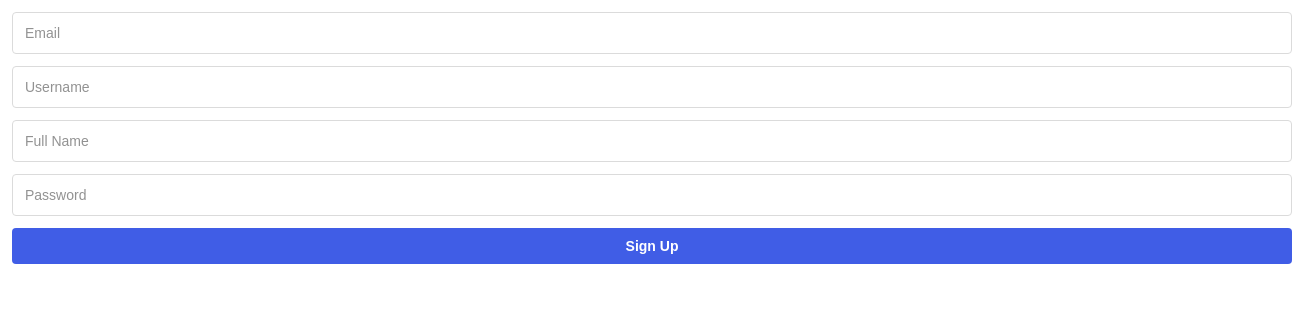
SignupForm › shows error when registration fails
Type "taken@test.com" into the field with placeholder "Email".
click(652, 33); type("taken@test.com")  # box x1=12 y1=12 x2=1292 y2=54
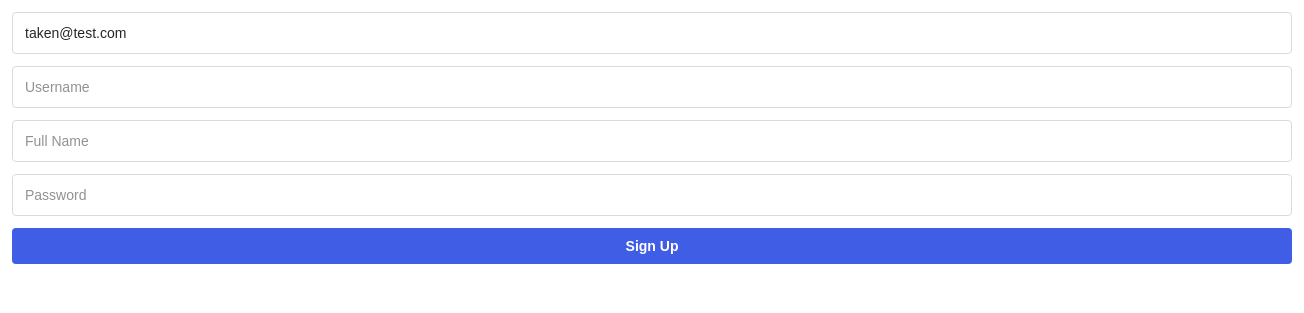
Type "takenuser" into the field with placeholder "Username".
click(652, 87); type("takenuser")  # box x1=12 y1=66 x2=1292 y2=108
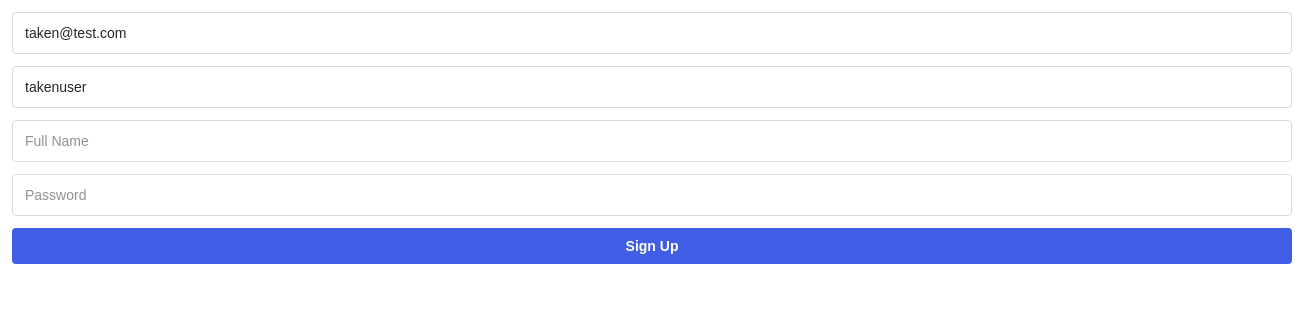
Type "123456" into the password field with placeholder "Password".
click(652, 195); type("123456")  # box x1=12 y1=174 x2=1292 y2=216
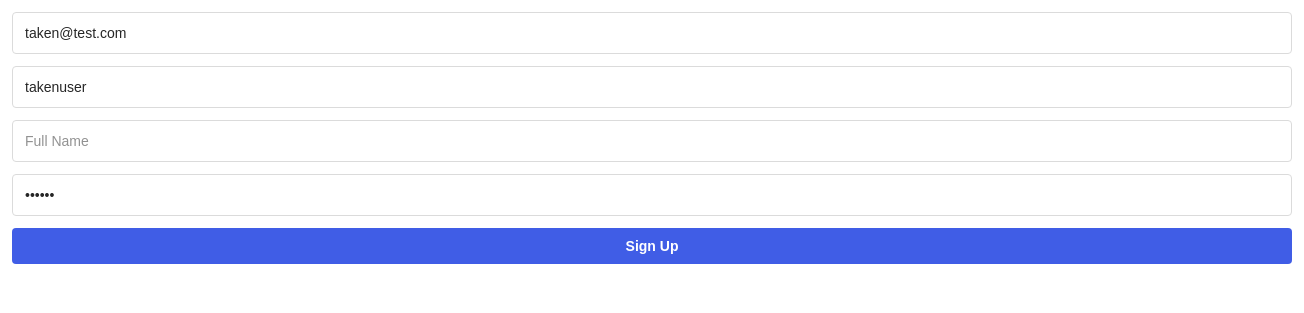
Click the button "Sign Up".
click(652, 246)  # box x1=12 y1=228 x2=1292 y2=264
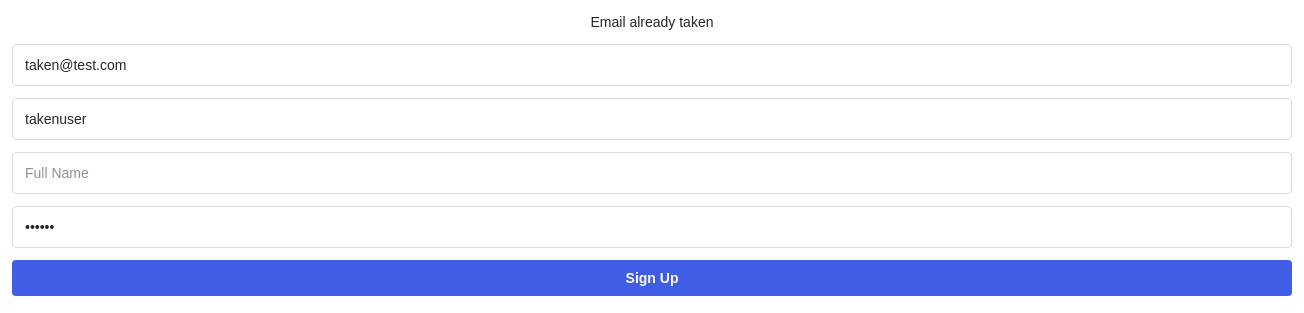
Expected: the text "Email already taken" is shown, x1=590 y1=14 x2=714 y2=30
